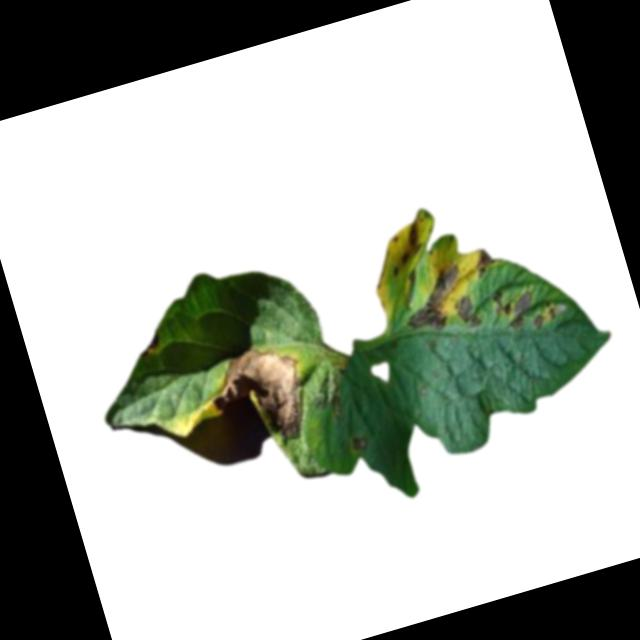Early_blight: (201, 338, 318, 458), (395, 264, 473, 337), (490, 274, 561, 339), (378, 218, 433, 278), (451, 288, 485, 331), (469, 246, 498, 277), (346, 432, 371, 453)
